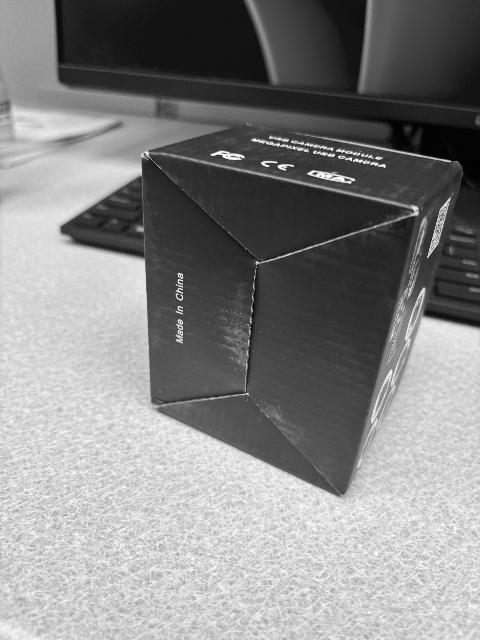CameraBox2: (139, 125, 463, 499)
